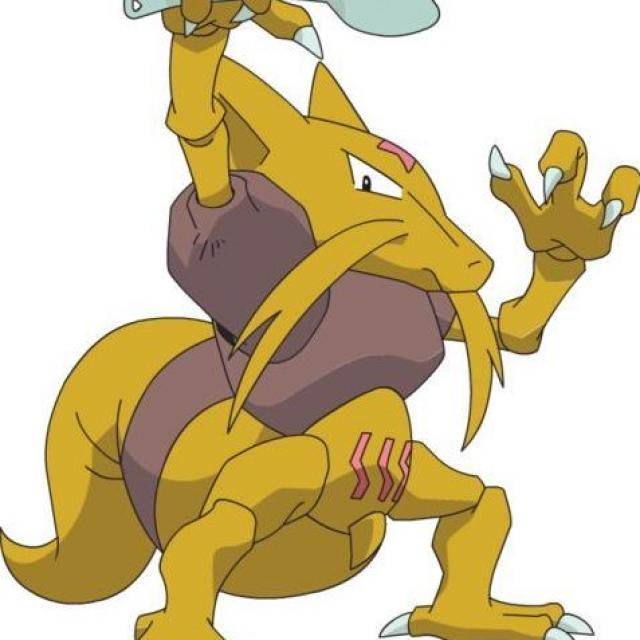Kadabra: (149, 43, 514, 628)
